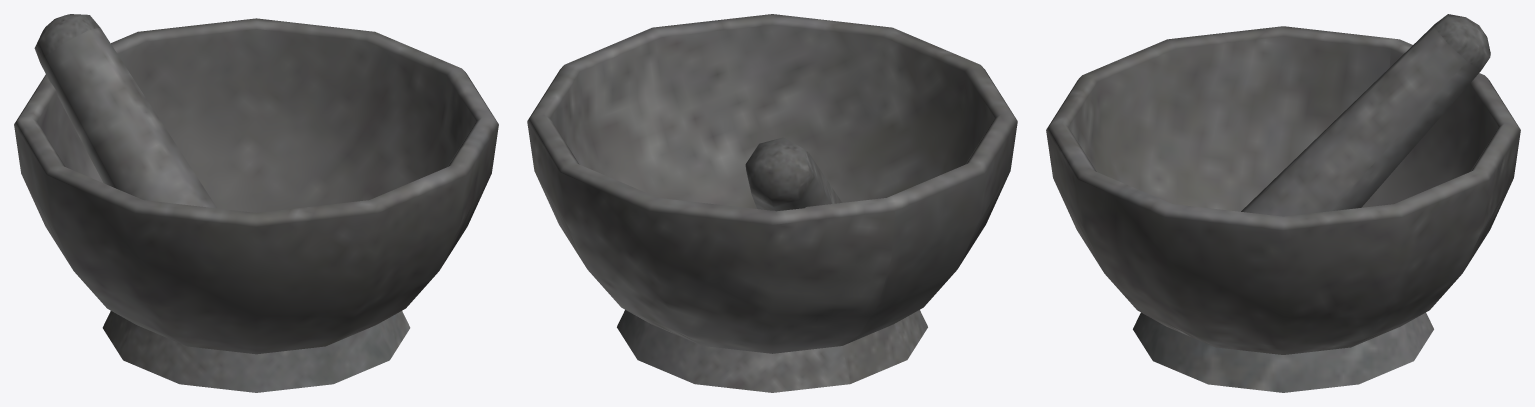
Rendered from MagicPotion_Maker.fbx.
3 renders of one model, left to right at view 1: azimuth 30°, elevation 25°; view 2: azimuth 150°, elevation 25°; view 3: azimuth 270°, elevation 25°, orthographic. The views are drawn at different scales.
Parts seen in each view (by area): view 1: MagicPotion_Maker; view 2: MagicPotion_Maker; view 3: MagicPotion_Maker.
Boxes of the visible parts, x1,y1,x2,y2 form: MagicPotion_Maker: [14, 14, 498, 392]; MagicPotion_Maker: [527, 14, 1017, 392]; MagicPotion_Maker: [1046, 14, 1520, 392].
Size of the model in its own units: 52 by 32.17 by 52.
